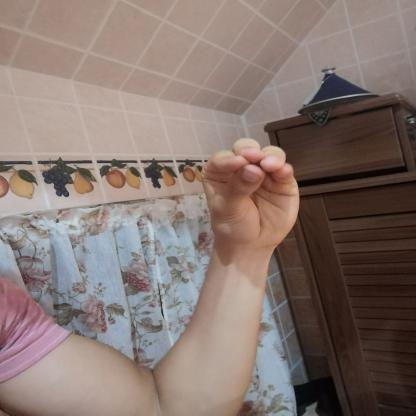HA: (186, 125, 322, 265)
